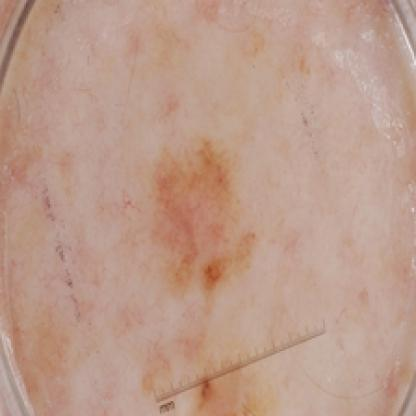malignant: (132, 122, 278, 314)
